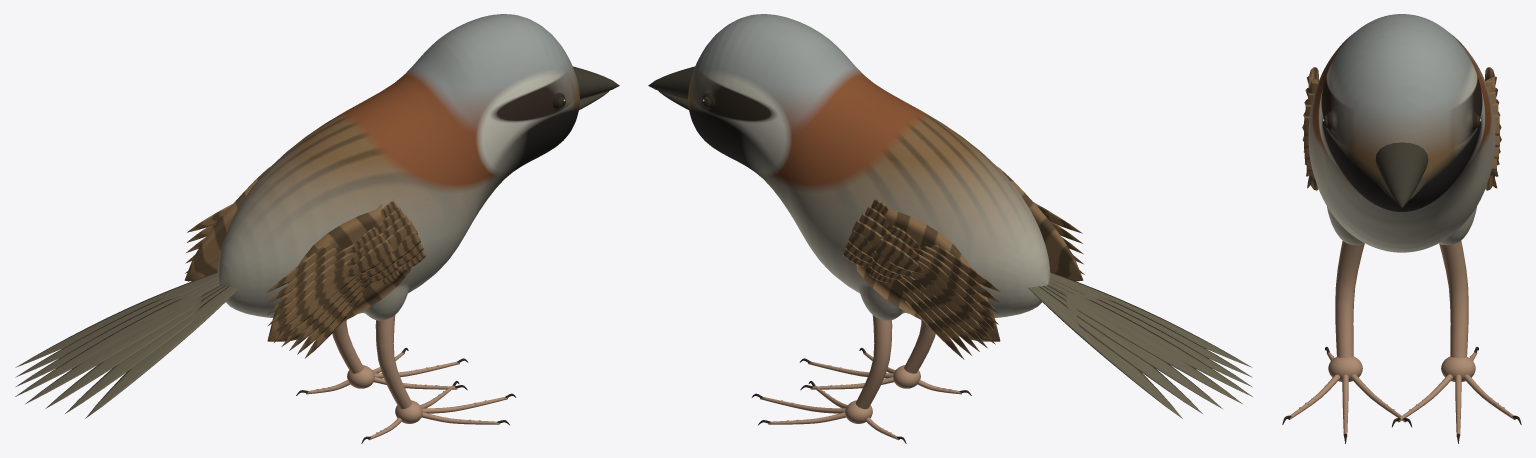
The model's file is sparrow.glb.
3 renders of one model, left to right at view 1: azimuth 30°, elevation 25°; view 2: azimuth 150°, elevation 25°; view 3: azimuth 270°, elevation 25°, orthographic. The views are drawn at different scales.
Parts seen in each view (by area): view 1: BirdBody, WingRight, WingLeft; view 2: BirdBody, WingLeft, WingRight; view 3: BirdBody, WingRight, WingLeft.
Boxes of the visible parts, x1,y1,x2,y2 form: BirdBody: (15,14,619,443); WingRight: (266,199,425,358); WingLeft: (184,166,270,281); BirdBody: (648,14,1252,443); WingLeft: (843,197,1000,359); WingRight: (997,166,1084,281); BirdBody: (1282,14,1521,443); WingRight: (1302,67,1318,190); WingLeft: (1485,67,1501,190).
Bounding box in the file's own units: 0.1586 × 0.0905 × 0.0466.
11 materials, 11 textured.
